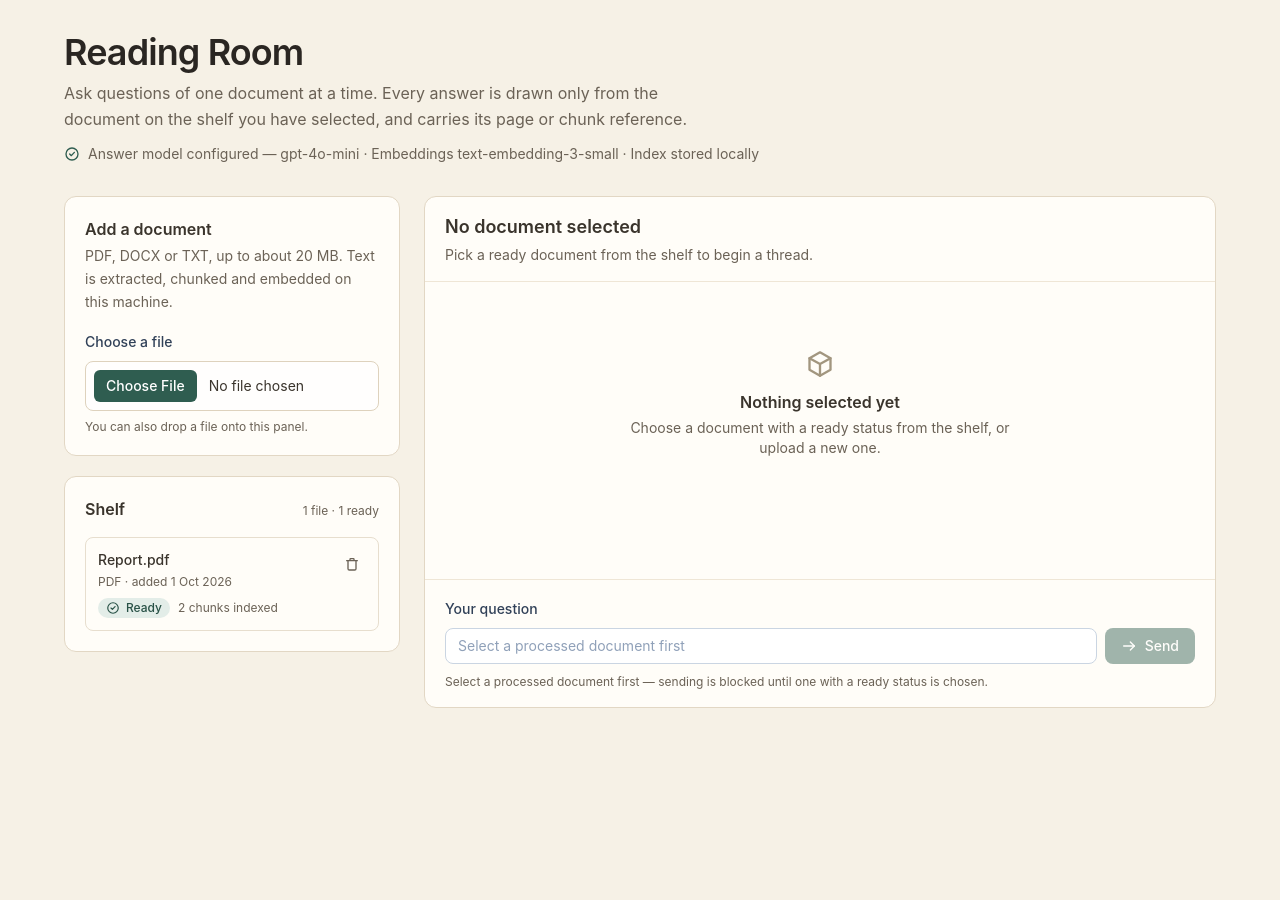
Home screen › renders the backend's readable error message instead of a fabricated answer on a failed ask
Click the text "Report.pdf". click: (134, 560)
box: [98, 551, 170, 568]
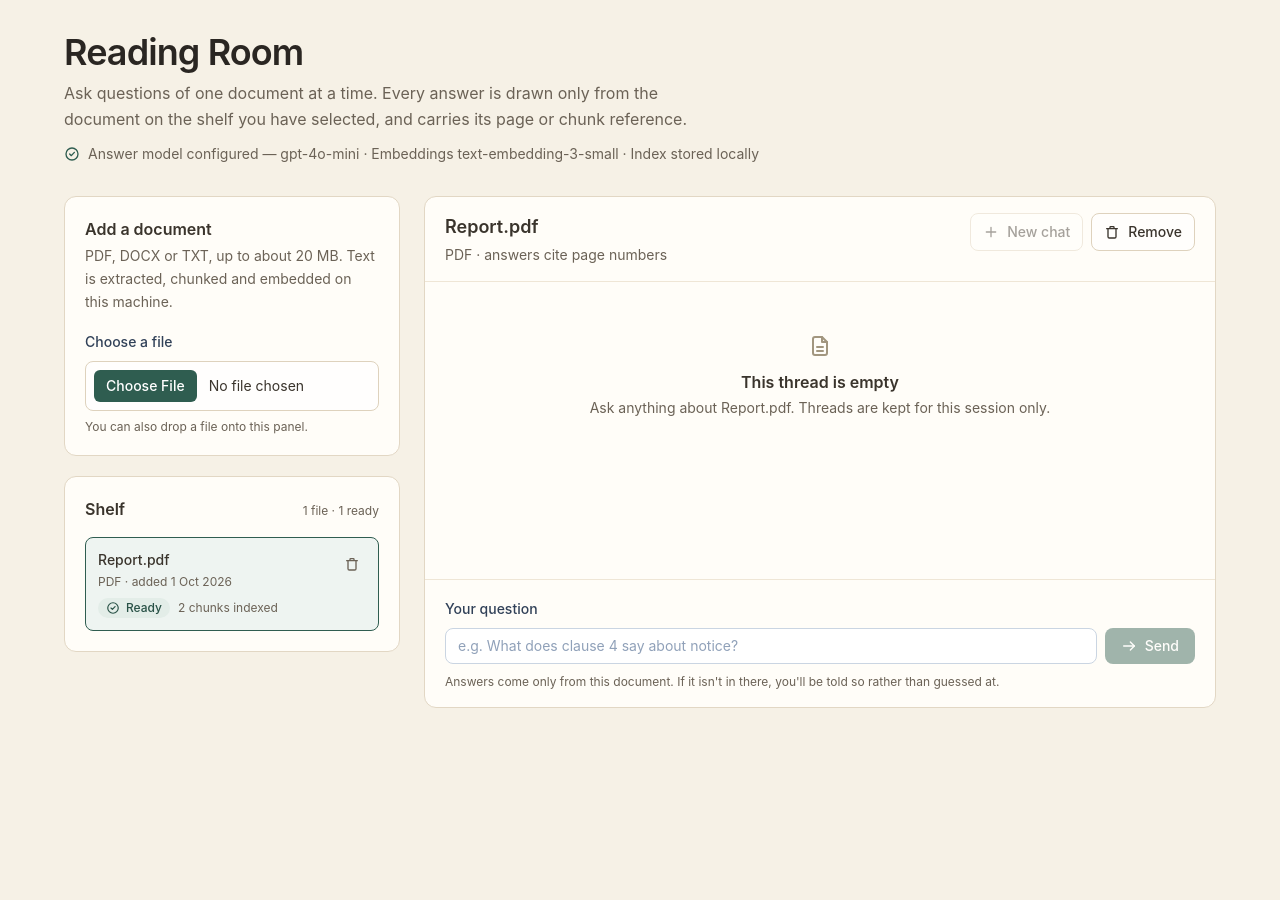
Type "Any notice period?" into the field labelled "Your question". click: (771, 646)
box: [445, 628, 1097, 664]
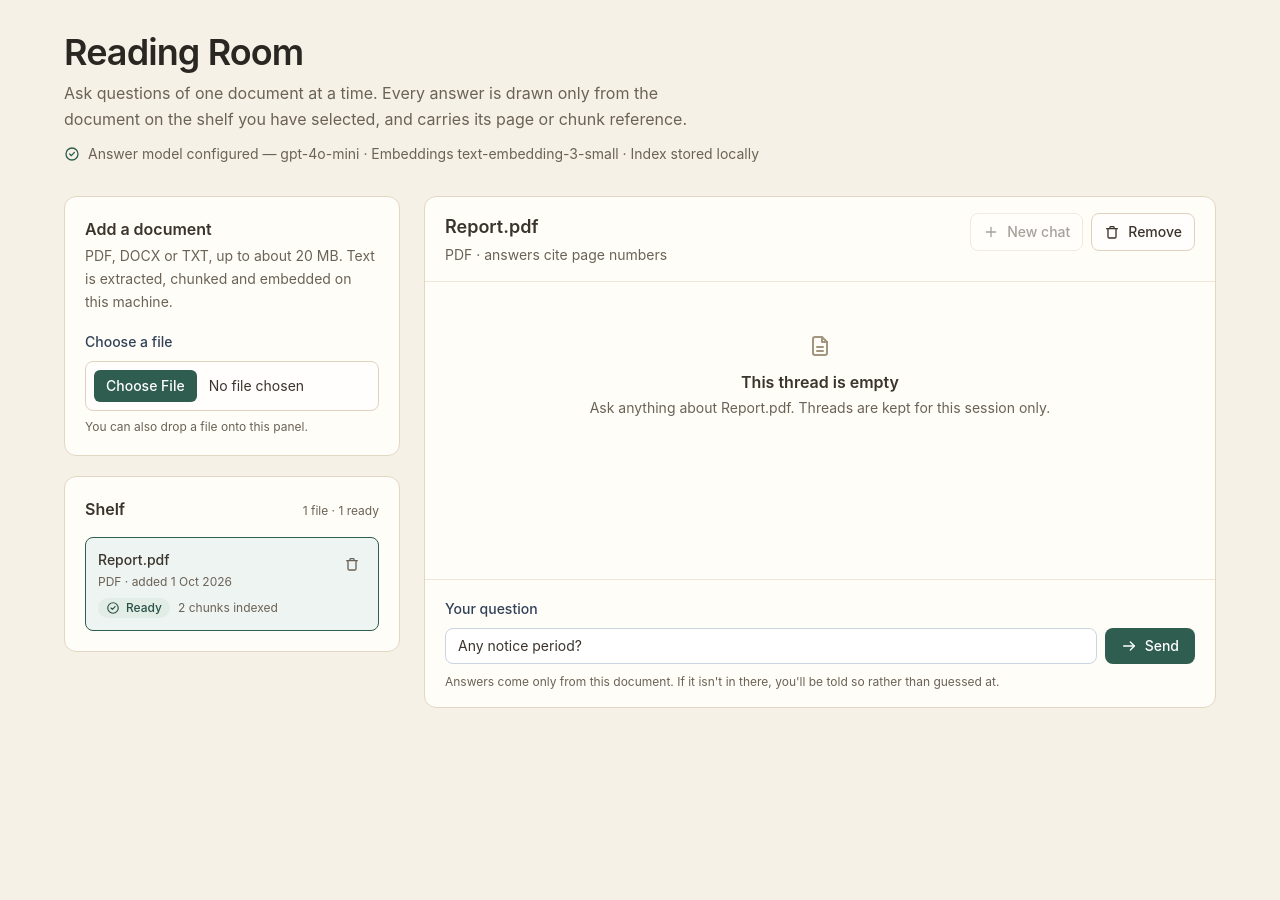
Submit the form labelled "Your question", box [425, 578, 1215, 707]
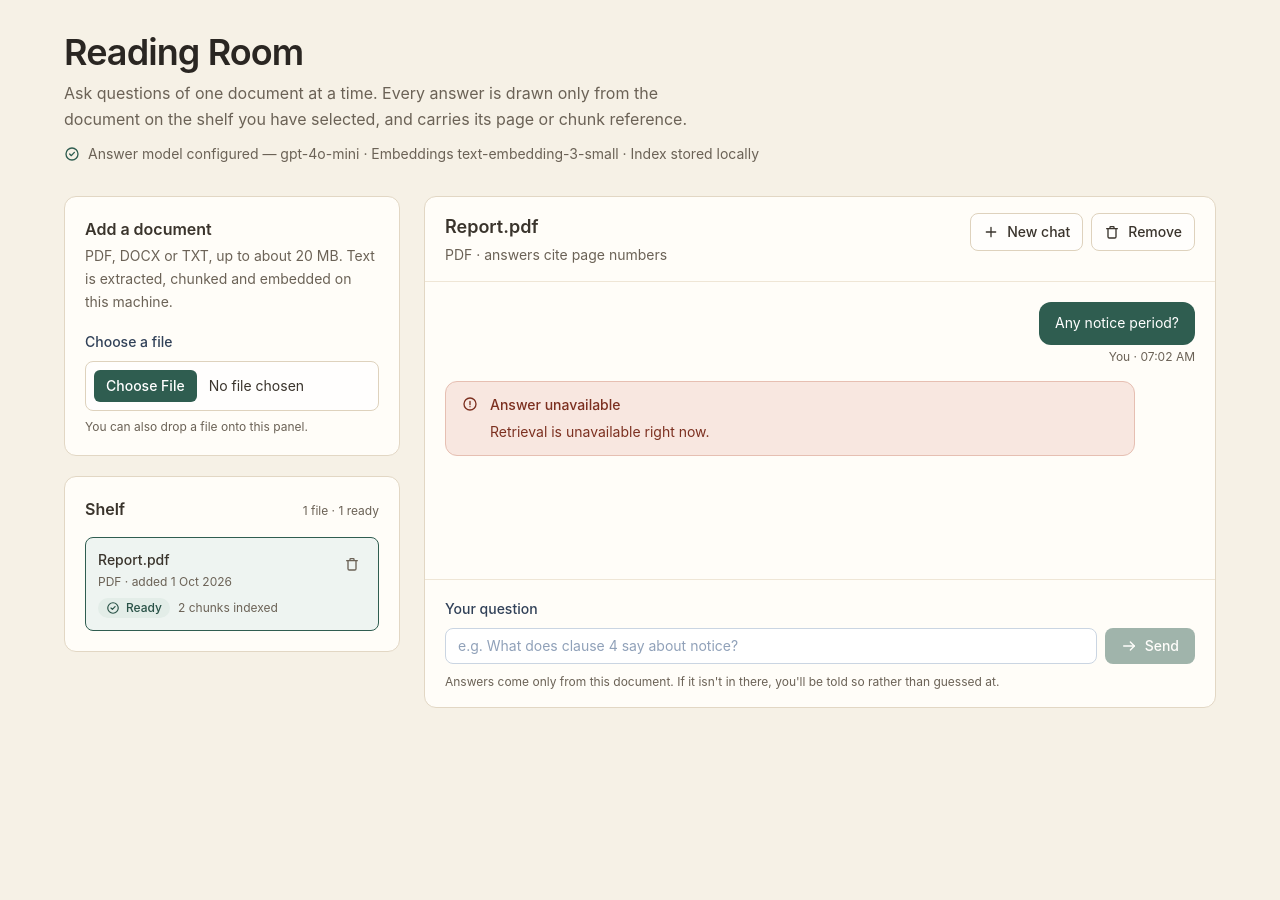
Result: the text "Retrieval is unavailable right now." is shown at [490, 420, 710, 443]
